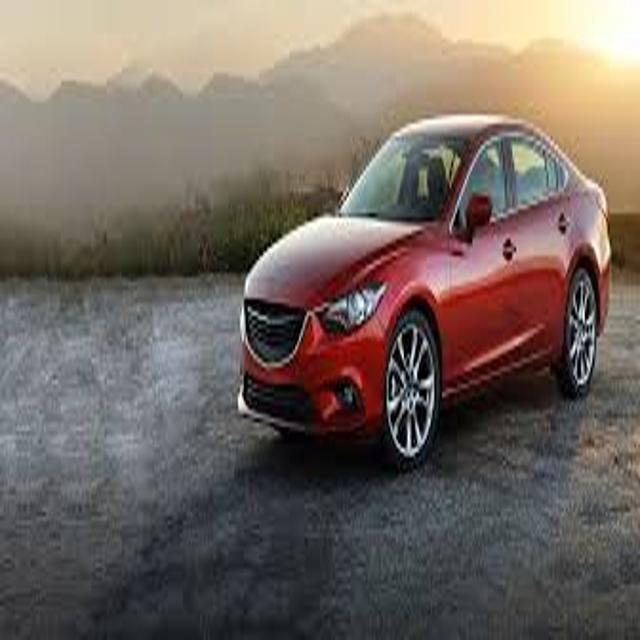car: (238, 116, 612, 470)
